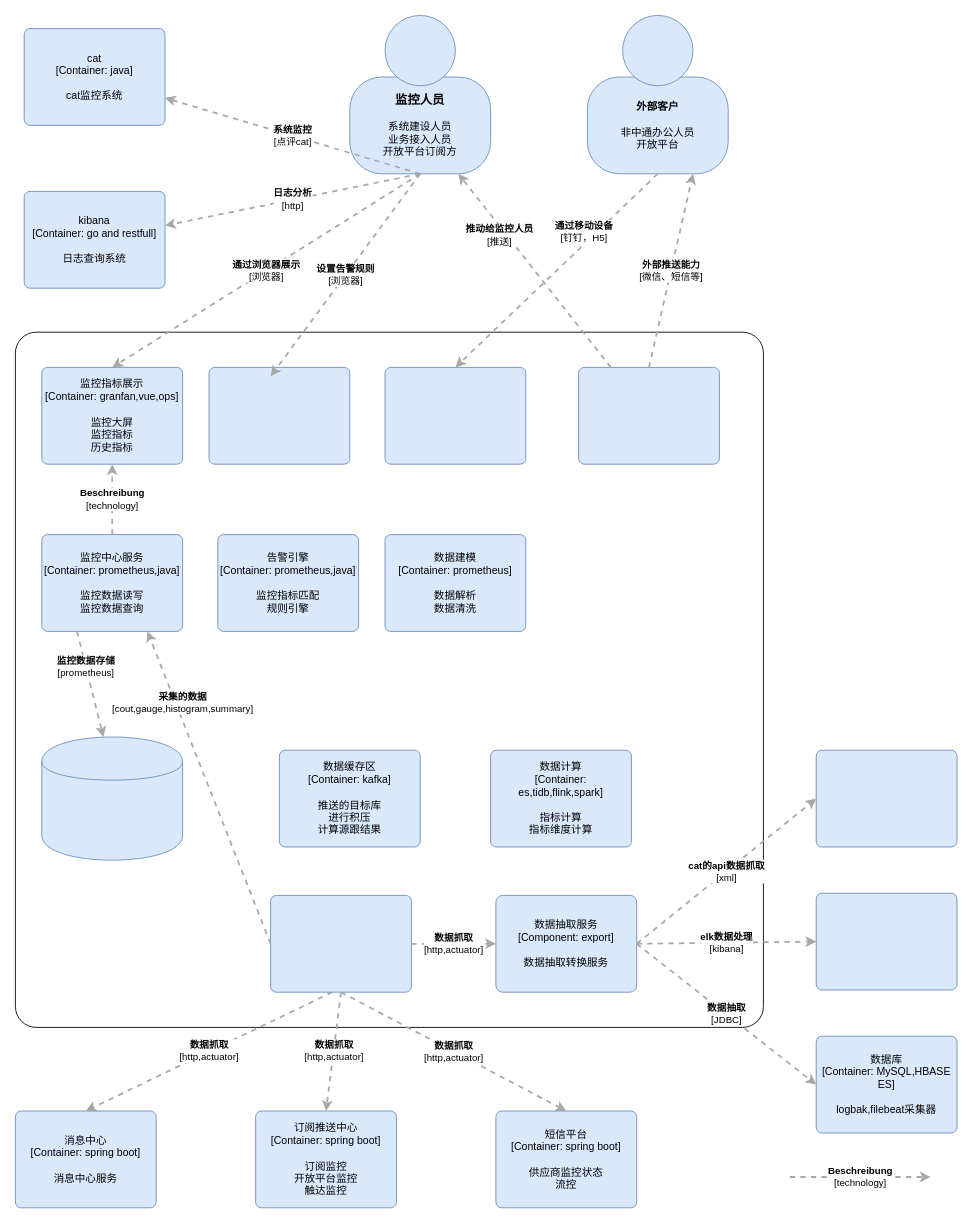
Some shapes in this 972 by 1223 pixel diagram are drawn without their labels. Here are the shapes that lost their labels. From the top down, the centre of each, then its label:
At [279,415]: "告警参数设置 [Container: ops,prometheus ] 监控指标设置 告警设置 通知人员维护".
At [455,415]: "移动端展示 [Container: 钉钉,移动H5 ] 移动端展示".
At [648,415]: "告警通知中心 [Container: restfull ] 消息中心，触达钉钉、短信、微信等".
At [112,798]: "监控指标数据库 [Container: tsdb,influxdb,clickhoust,mysql] 基于时序数据库存储，主要存储指标数据".
At [886,798]: "cat [Container: java ] cat埋点的数据".
At [340,943]: "数据采集中心 [Container: prometheus ] 数据采集 推 拉".
At [886,941]: "日志系统 [Container: java ] logbak,filebeat采集器".
